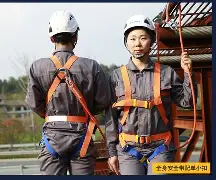safety belt: (31, 57, 98, 157), (115, 63, 170, 157)
